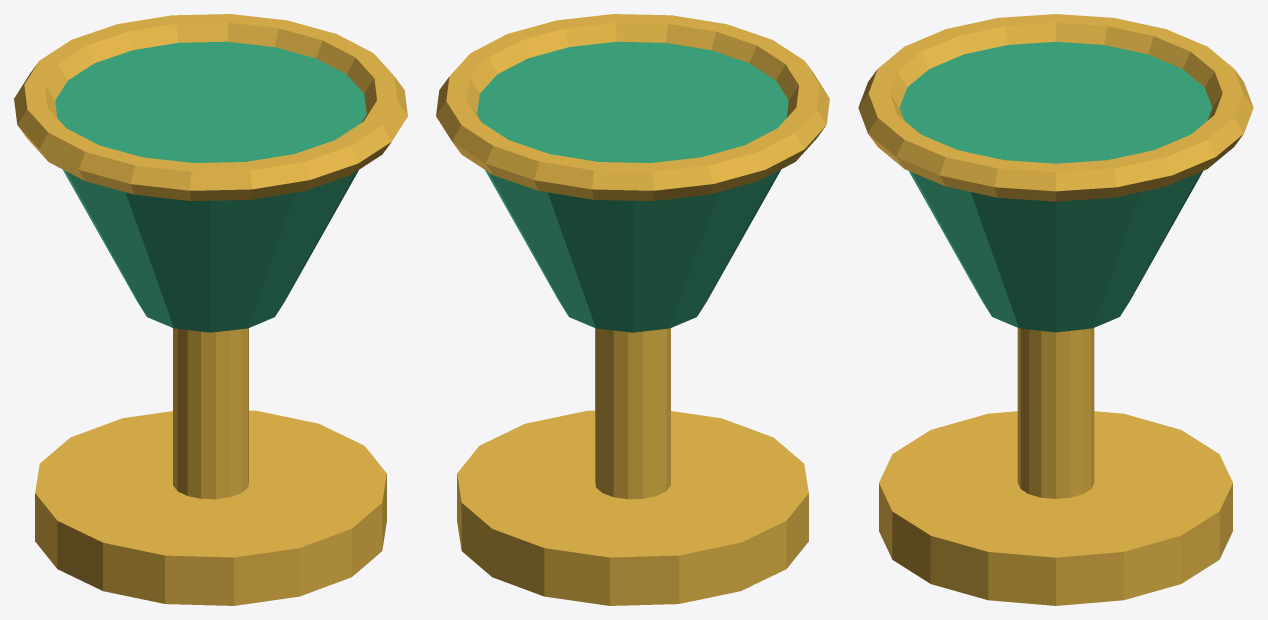
Rendered from reliquia_calice.glb.
3 views of the same model, side by side, from view 1: azimuth 30°, elevation 25°; view 2: azimuth 150°, elevation 25°; view 3: azimuth 270°, elevation 25° (orthographic).
Visible parts, largest first — view 1: reliquia_calice; view 2: reliquia_calice; view 3: reliquia_calice.
Part boxes in pixels (<box>): reliquia_calice: <box>14,14,407,605</box>; reliquia_calice: <box>436,14,829,605</box>; reliquia_calice: <box>858,14,1253,605</box>.
Bounding box in the file's own units: 1.8 × 2.2 × 1.8.
